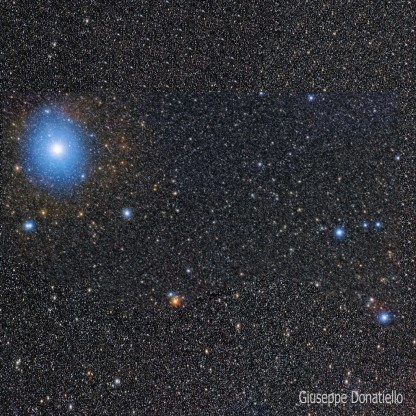Lyra: (18, 99, 101, 195), (116, 201, 139, 226), (18, 213, 41, 237), (163, 288, 184, 313), (328, 221, 350, 244), (373, 307, 393, 330)
